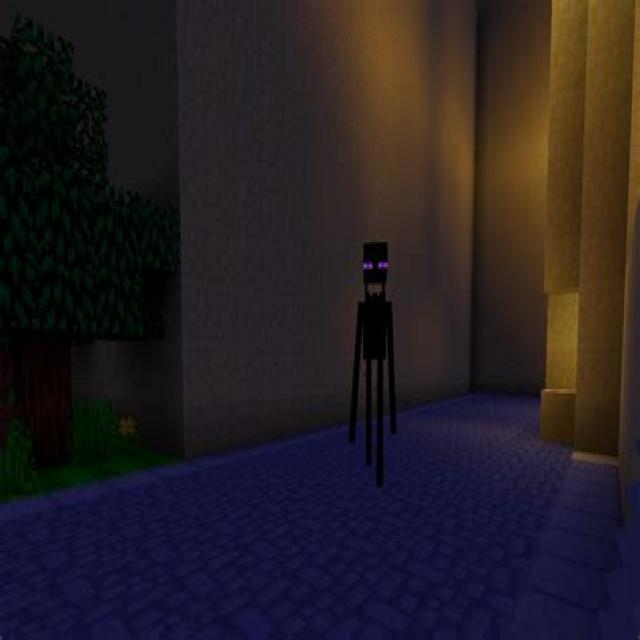Enderman: (347, 236, 404, 496)
